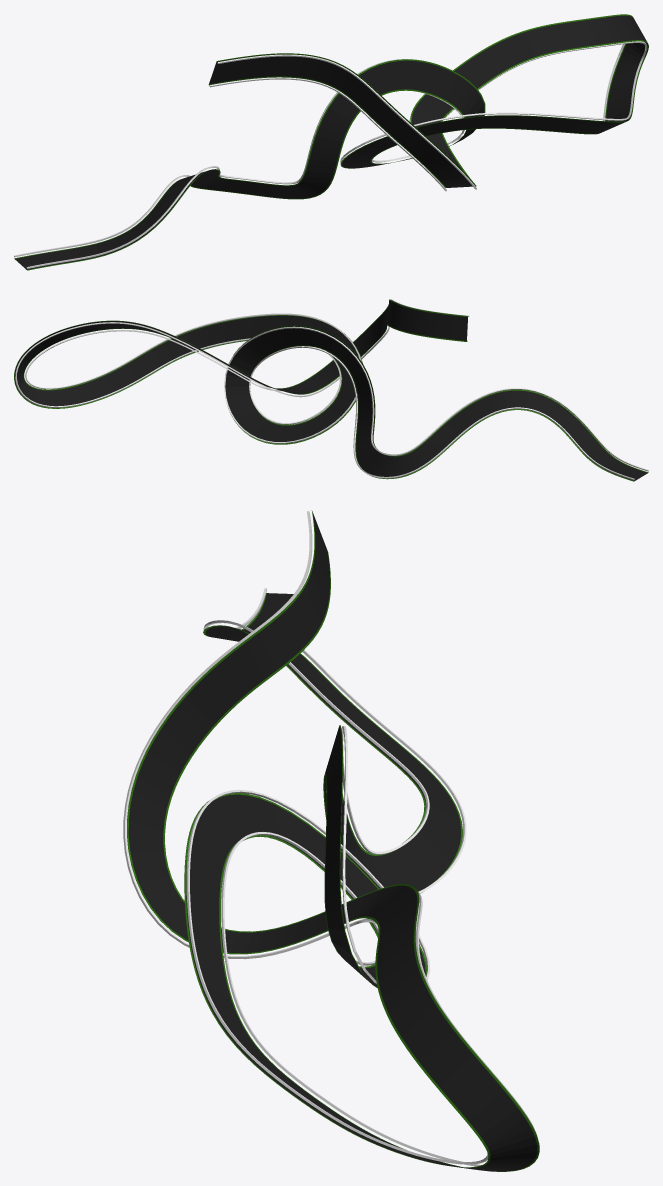
Rendered from ForestTrack.dae.
3 views of the same model, one above another, from view 1: azimuth 30°, elevation 25°; view 2: azimuth 150°, elevation 25°; view 3: azimuth 270°, elevation 25° (orthographic). The views are drawn at different scales.
Parts seen in each view (by area): view 1: Cube.002; view 2: Cube.002; view 3: Cube.002.
Boxes of the visible parts, <box> form: Cube.002: <box>14,14,648,270</box>; Cube.002: <box>14,299,648,481</box>; Cube.002: <box>123,510,539,1171</box>.
Size of the model in its own units: 1103 by 349 by 284.
